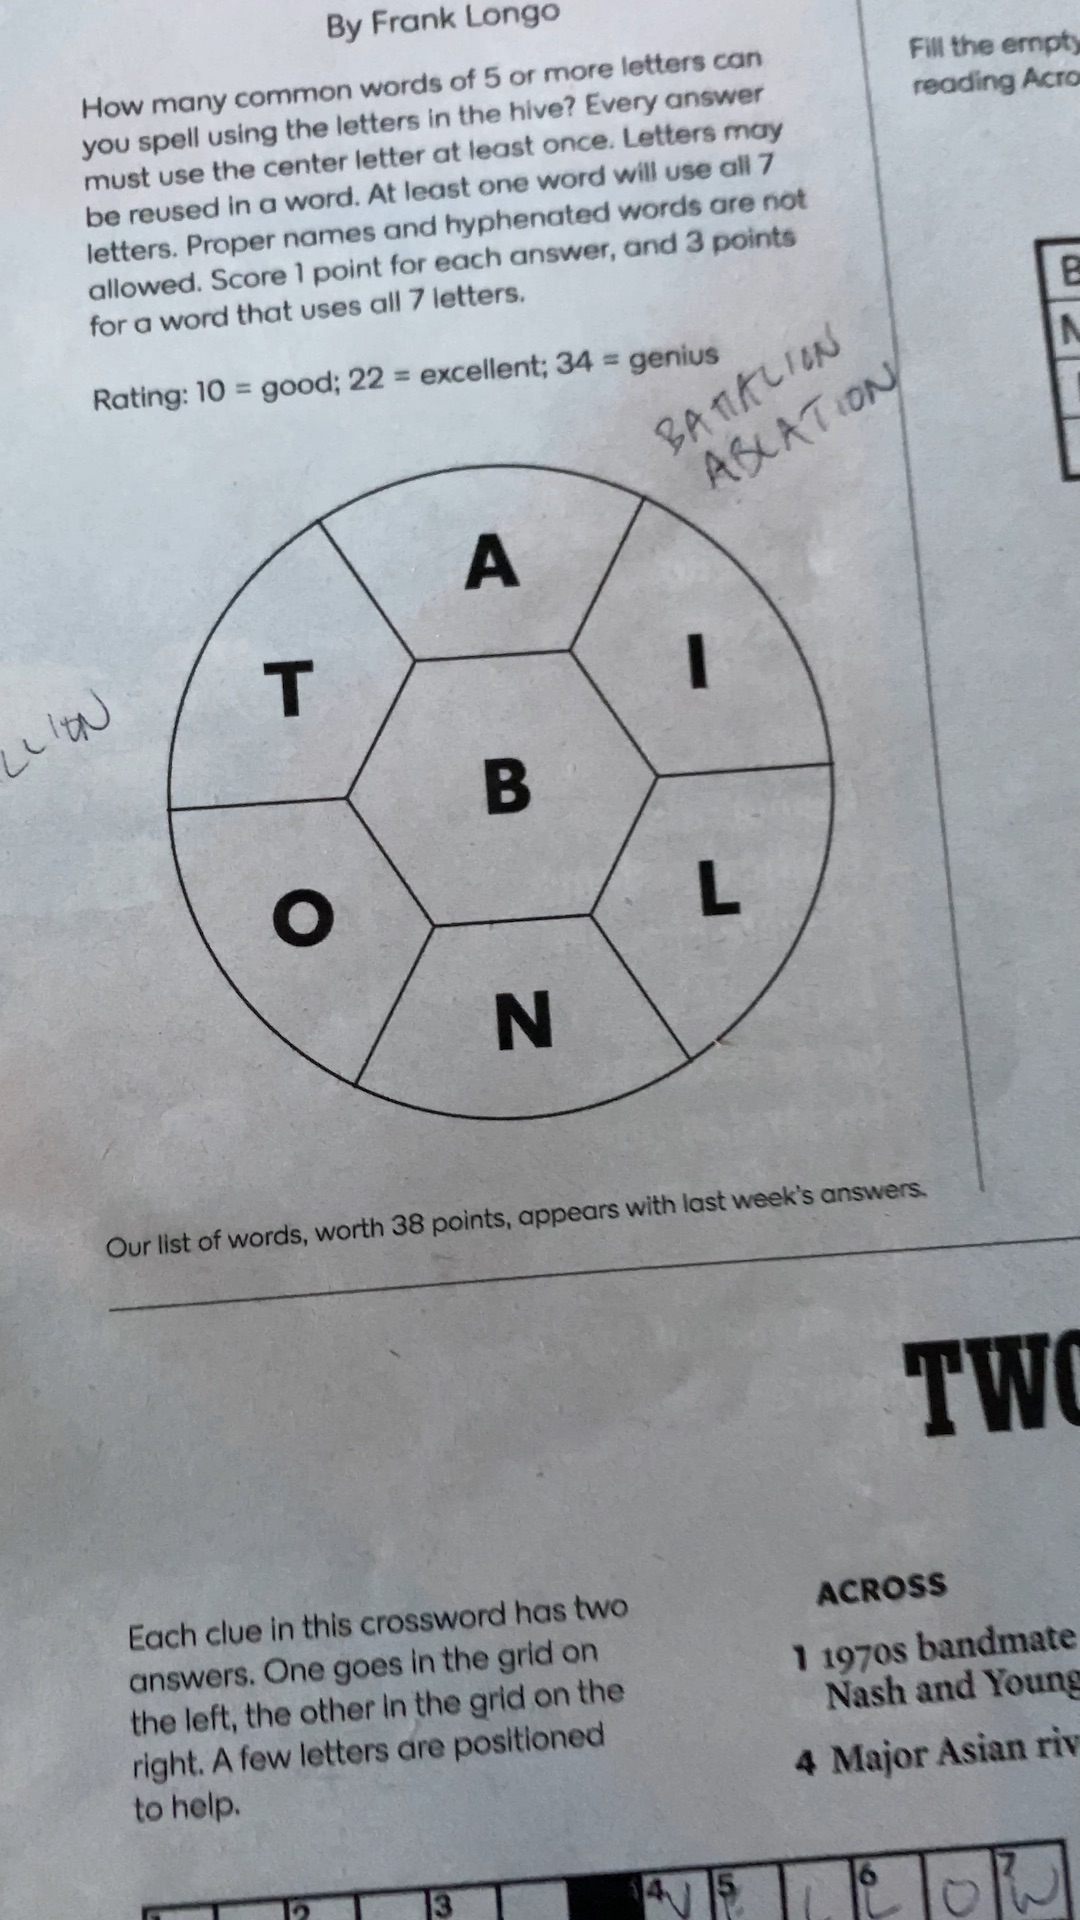PrintBoard: (135, 455, 849, 1131)
